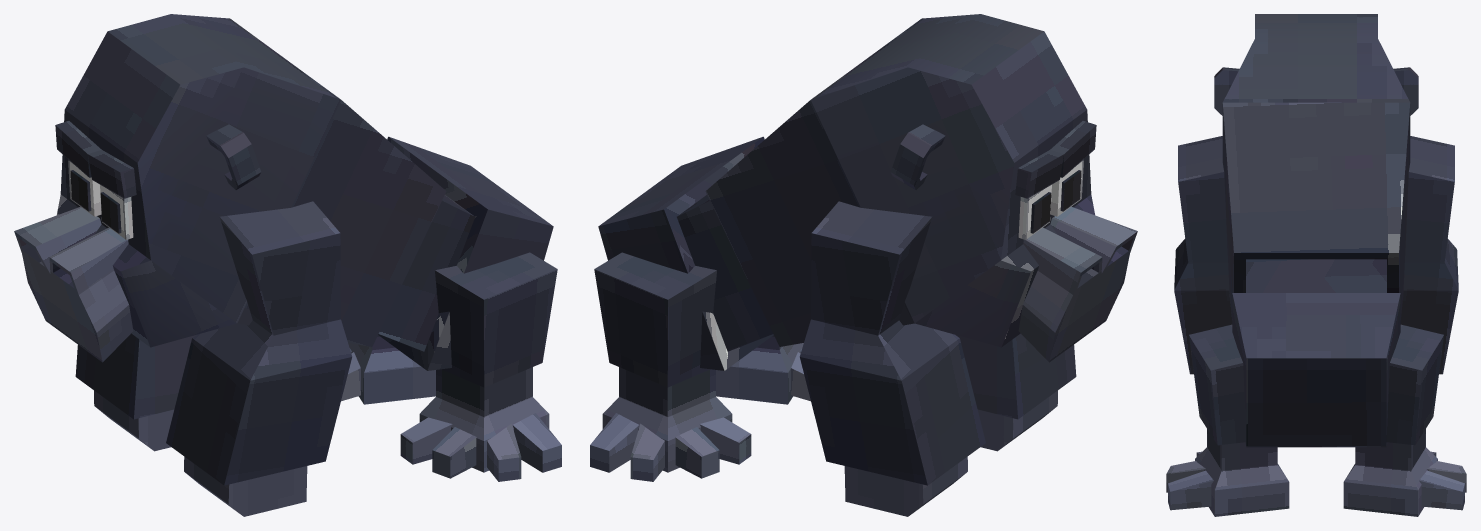
The model's file is animal_gorilla.obj.
3 renders of one model, left to right at view 1: azimuth 30°, elevation 25°; view 2: azimuth 150°, elevation 25°; view 3: azimuth 270°, elevation 25°, orthographic. The views are drawn at different scales.
Visible parts, largest first — view 1: animal_gorilla; view 2: animal_gorilla; view 3: animal_gorilla.
Part boxes in pixels (x1,y1,x2,y2): animal_gorilla: (14, 14, 561, 516); animal_gorilla: (590, 14, 1137, 516); animal_gorilla: (1166, 14, 1466, 516).
Size of the model in its own units: 8.11 by 7.08 by 5.32.
1 material, 1 textured.
